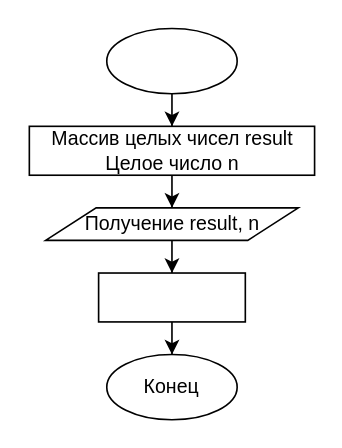
Some shapes in this 342 by 448 pixel diagram are drawn without their labels. Each missing label, with the centre of its shape:
"result[0] = n result[1] = n + 1" goes at [171,296].
"Начало" goes at [171,60].
